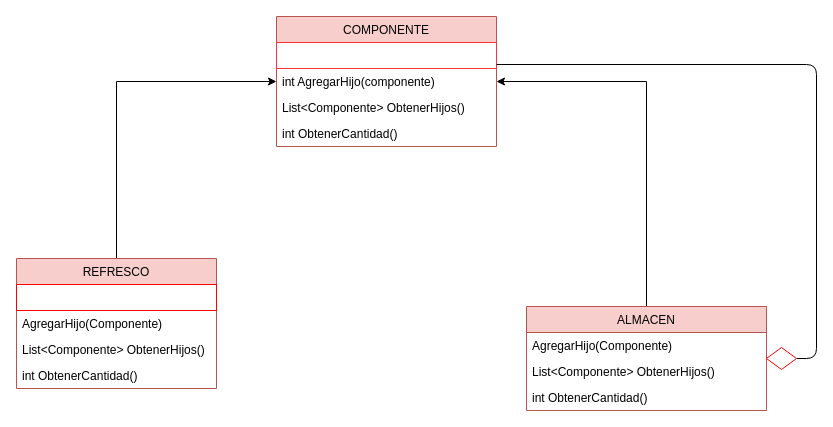
Image size: 833x427. Some labels were removed from this diagram. The centre of each missing label's shape, as x and y in pixels:
int cantidad: (x=116, y=297)
string nombre: (x=386, y=55)
